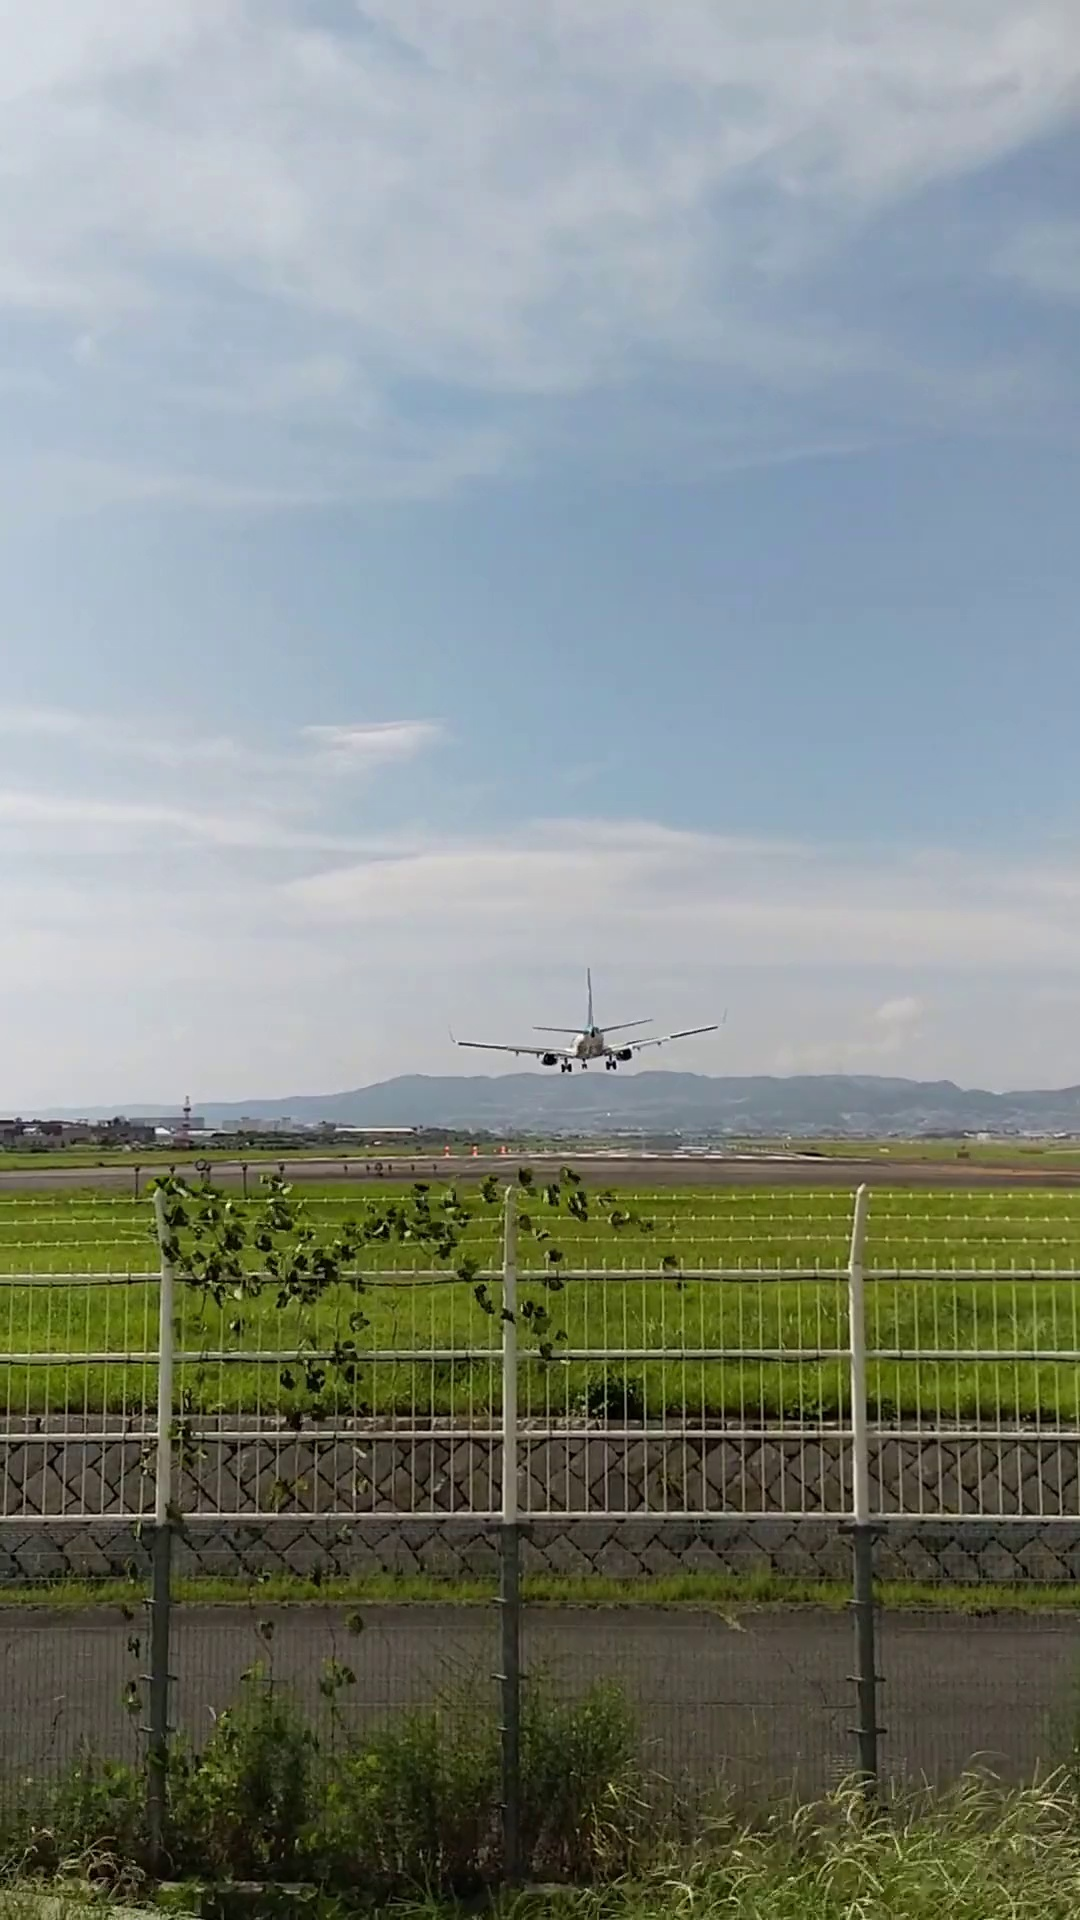plane: (448, 967, 724, 1072)
